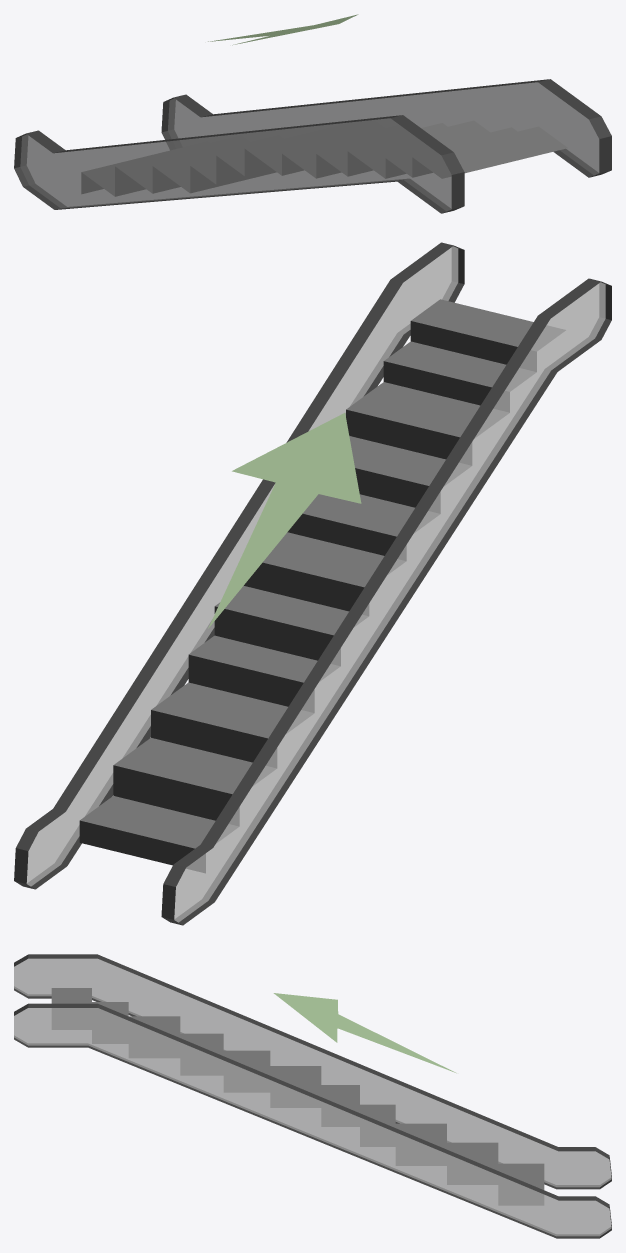
File: 扶梯上行.obj
3 views of the same model, one above another, from view 1: azimuth 30°, elevation 25°; view 2: azimuth 150°, elevation 25°; view 3: azimuth 270°, elevation 25° (orthographic). The views are drawn at different scales.
Parts seen in each view (by area): view 1: object 6, Line001, object 4, Line006, Line005, Line004; view 2: Line001, object 6, Line006, object 4, Line005, Line004; view 3: object 4, Line001, object 6, Line005, Line006, Line004.
Part boxes in pixels (x1,y1,x2,y2): object 6: [20, 118, 451, 211]; Line001: [82, 118, 567, 196]; object 4: [168, 82, 599, 175]; Line006: [14, 115, 464, 213]; Line005: [161, 79, 611, 177]; Line004: [208, 14, 358, 45]; Line001: [79, 299, 565, 872]; object 6: [174, 282, 605, 922]; Line006: [161, 278, 611, 925]; object 4: [26, 246, 458, 886]; Line005: [14, 242, 464, 889]; Line004: [208, 413, 361, 628]; object 4: [14, 1008, 611, 1236]; Line001: [51, 988, 544, 1204]; object 6: [14, 958, 611, 1187]; Line005: [14, 1003, 611, 1238]; Line006: [14, 954, 611, 1189]; Line004: [273, 993, 456, 1073].
Size of the model in its own units: 185 by 372 by 874.
